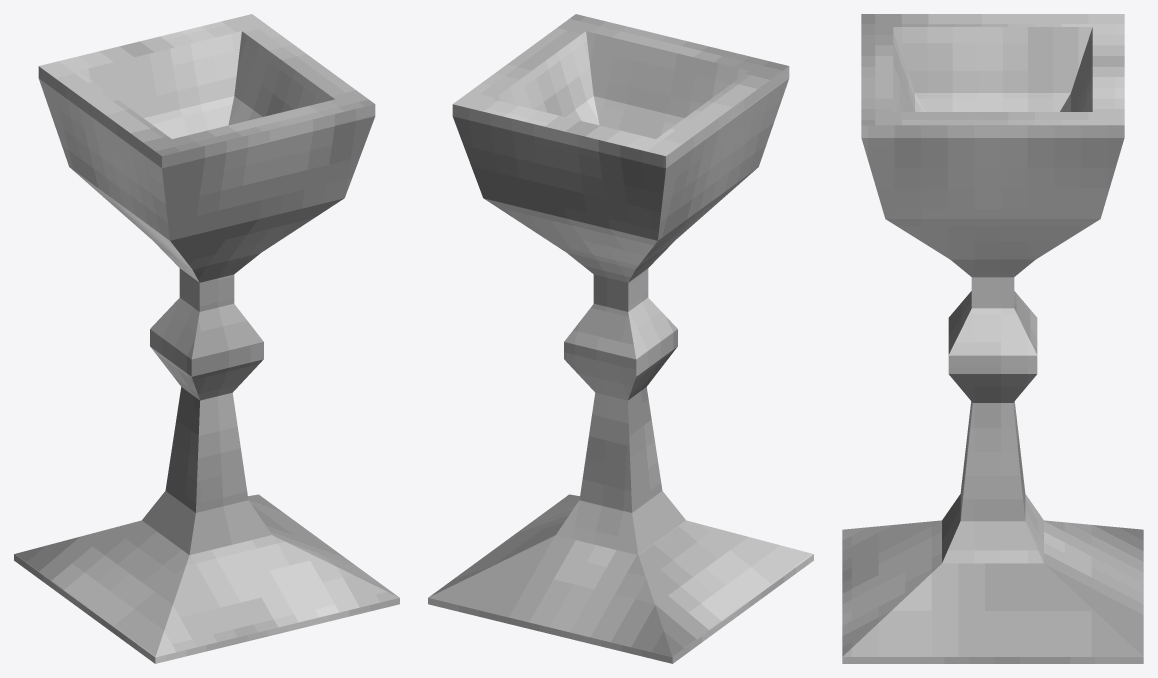
Rendered from chalice.obj.
3 renders of one model, left to right at view 1: azimuth 30°, elevation 25°; view 2: azimuth 150°, elevation 25°; view 3: azimuth 270°, elevation 25°, orthographic. The views are drawn at different scales.
Visible parts, largest first — view 1: Cube; view 2: Cube; view 3: Cube.
Boxes of the visible parts, bbox=[...] form: Cube: bbox=[14, 14, 399, 663]; Cube: bbox=[428, 14, 813, 663]; Cube: bbox=[842, 14, 1143, 663].
Size of the model in its own units: 2.29 by 4.45 by 2.29.
